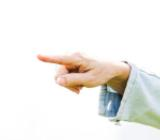up: (34, 51, 109, 95)
